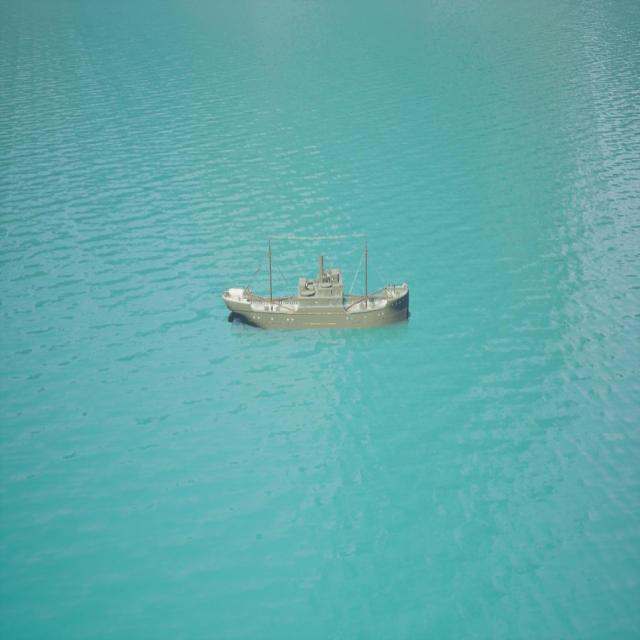fishing ship: (225, 235, 413, 332)
